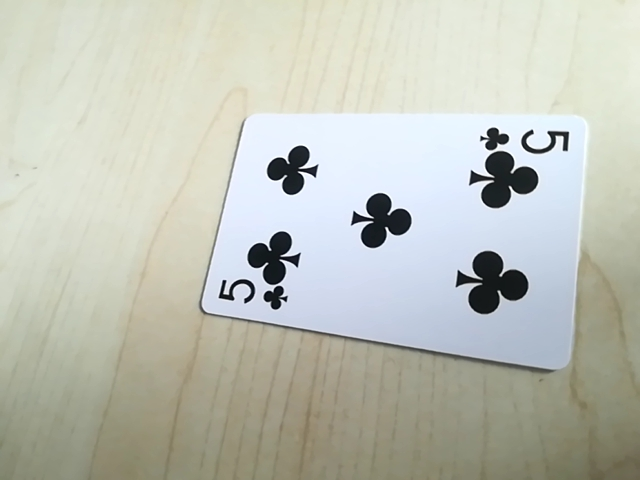mh 5: (479, 122, 572, 155), (212, 277, 290, 314)
